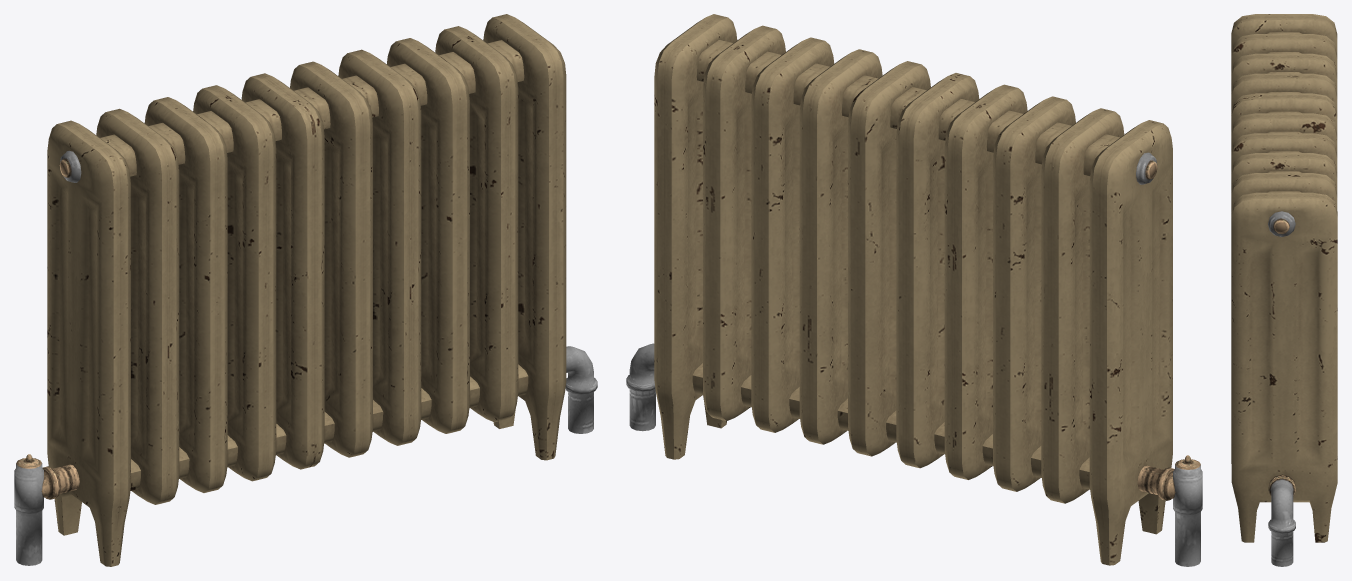
File: SM_Radiator_SM.fbx
3 views of the same model, side by side, from view 1: azimuth 30°, elevation 25°; view 2: azimuth 150°, elevation 25°; view 3: azimuth 270°, elevation 25° (orthographic). The views are drawn at different scales.
Parts seen in each view (by area): view 1: SM_Radiator_SM_LOD0; view 2: SM_Radiator_SM_LOD0; view 3: SM_Radiator_SM_LOD0.
Boxes of the visible parts, x1=… form: SM_Radiator_SM_LOD0: x1=14, y1=14, x2=597, y2=566; SM_Radiator_SM_LOD0: x1=626, y1=14, x2=1202, y2=566; SM_Radiator_SM_LOD0: x1=1231, y1=14, x2=1337, y2=566.
Size of the model in its own units: 127 by 24.23 by 86.34.
Materials: 1 (1 with a texture image).
